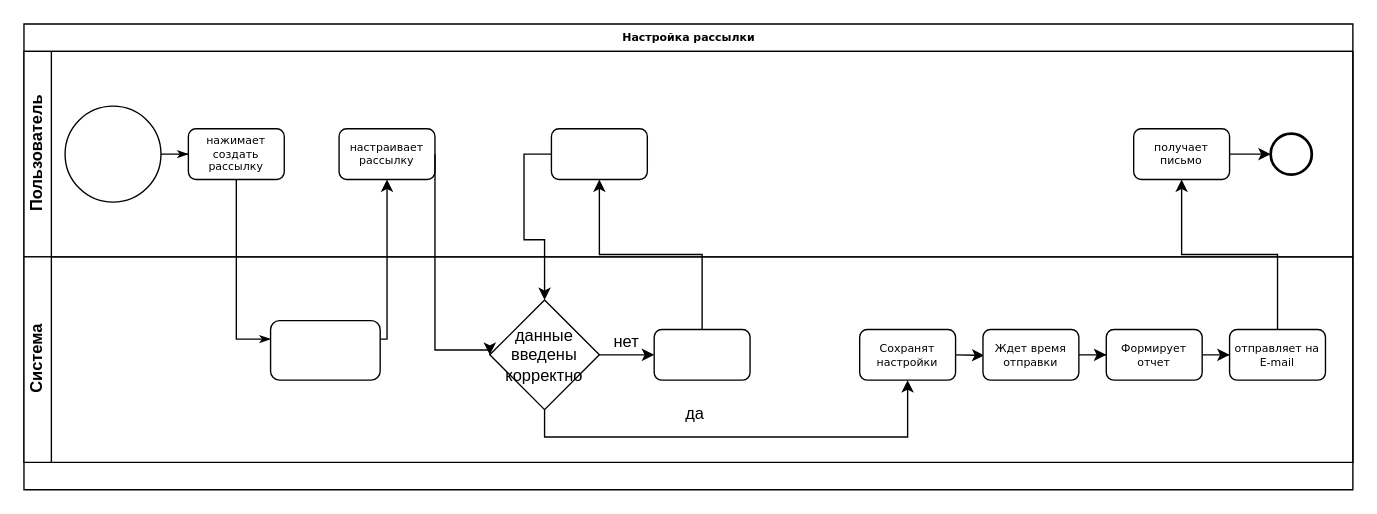
Some shapes in this 1377 by 514 pixel diagram are drawn without their labels. The centre of each missing label's shape, as x and y in pixels:
"end" goes at [1290,153].
"Авторизация завершена" goes at [112,153].
"вносит правки" goes at [598,153].
"открывает рассылки" goes at [324,349].
"отображает ошибку" goes at [701,354].
